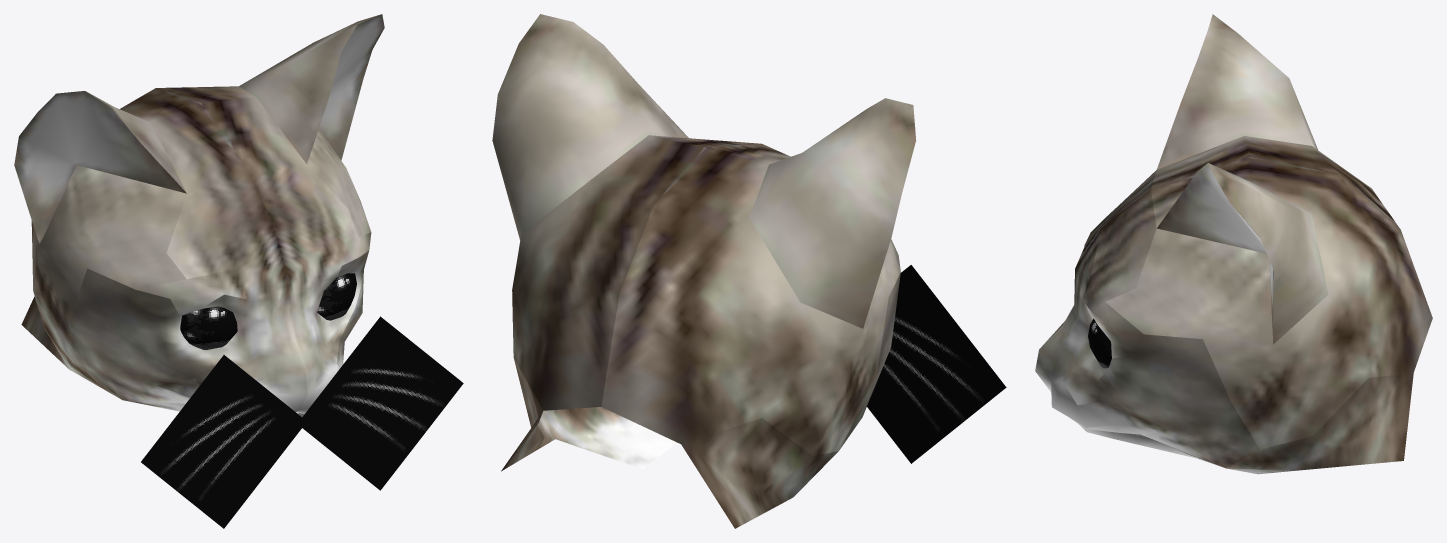
Rendered from head.obj.
3 views of the same model, side by side, from view 1: azimuth 30°, elevation 25°; view 2: azimuth 150°, elevation 25°; view 3: azimuth 270°, elevation 25° (orthographic). The views are drawn at different scales.
Visible parts, largest first — view 1: vsn_mesh_2__mesh_2_.002; view 2: vsn_mesh_2__mesh_2_.002; view 3: vsn_mesh_2__mesh_2_.002.
Boxes of the visible parts, left/top/right/bottom form: vsn_mesh_2__mesh_2_.002: left=14, top=14, right=463, bottom=528; vsn_mesh_2__mesh_2_.002: left=492, top=14, right=1006, bottom=528; vsn_mesh_2__mesh_2_.002: left=1035, top=14, right=1432, bottom=474.
Bounding box in the file's own units: 1.5 × 1.6 × 1.46.
Materials: 4 (4 with a texture image).
